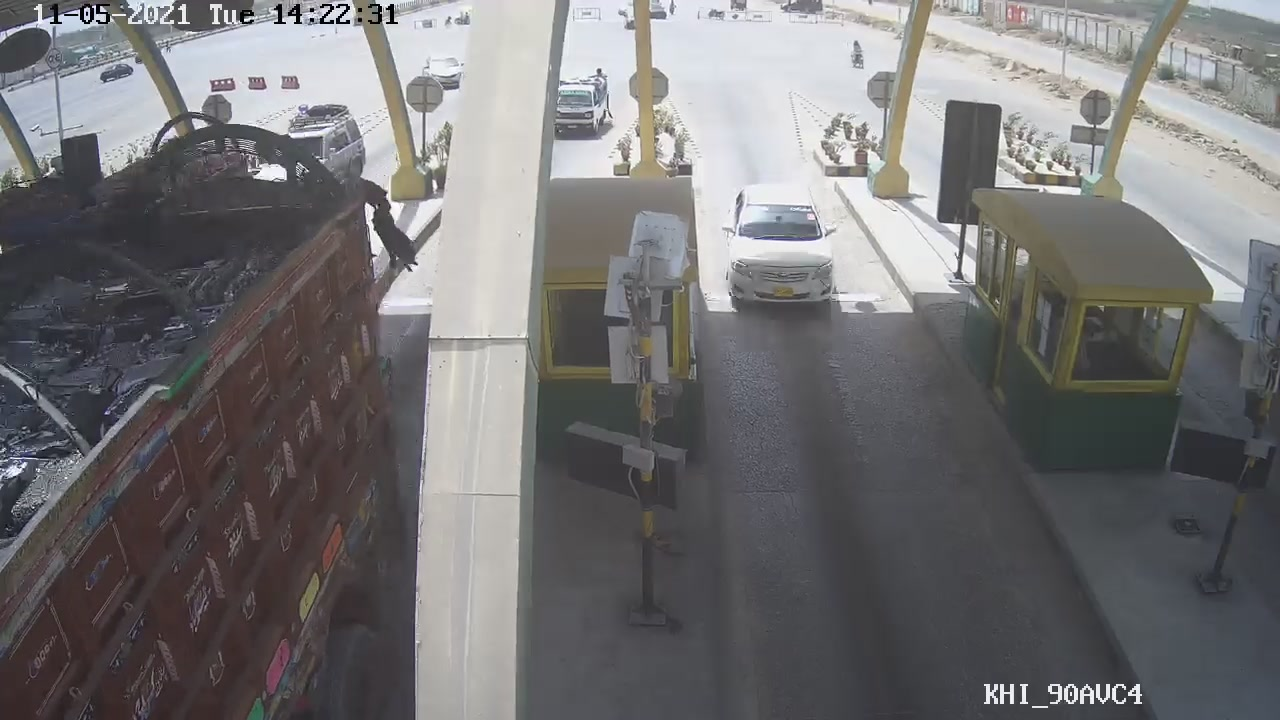F1: (720, 179, 840, 319)
